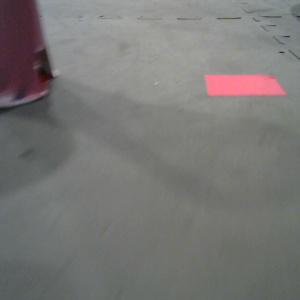middle: (1, 1, 61, 115)
